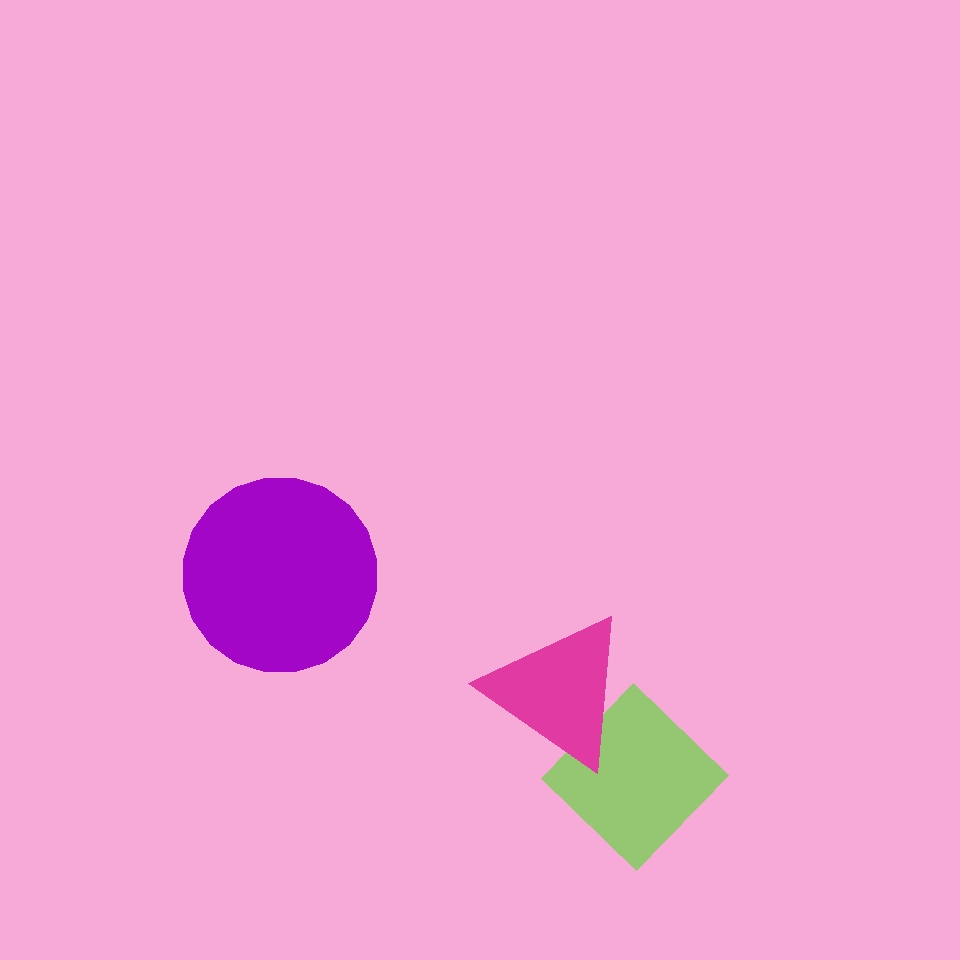circle: (488, 612, 630, 770)
square: (542, 684, 728, 870)
triangle: (184, 479, 376, 672)
